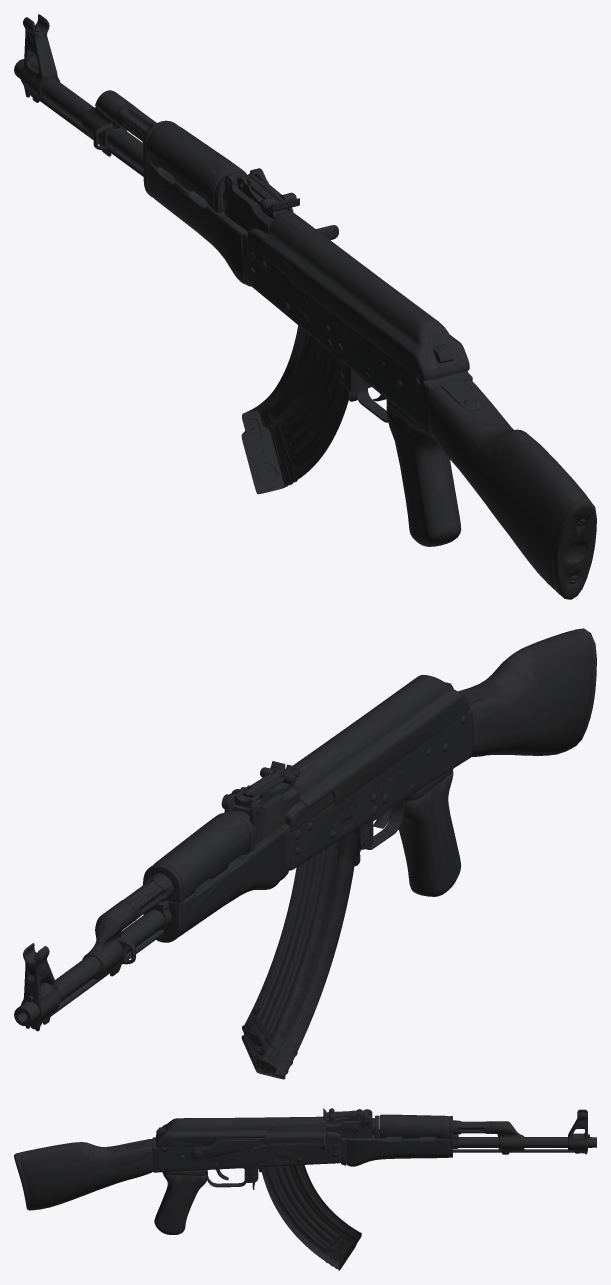
Rendered from rifle.glb.
The picture shows the model from 3 angles, top to bottom: view 1: azimuth 30°, elevation 25°; view 2: azimuth 150°, elevation 25°; view 3: azimuth 270°, elevation 25°; orthographic projection. The views are drawn at different scales.
Visible parts, largest first — view 1: body, furniture, magazine; view 2: body, furniture, magazine; view 3: body, furniture, magazine, bolt.
Boxes of the visible parts, x1,y1,x2,y2 form: body: (14,14,585,583); furniture: (146,123,596,599); magazine: (241,325,348,494); body: (14,675,482,1031); furniture: (153,628,596,937); magazine: (241,829,358,1079); body: (126,1108,596,1189); furniture: (14,1114,449,1234); magazine: (261,1165,361,1270); bolt: (266,1127,326,1149).
Size of the model in its own units: 0.0686 by 0.2527 by 0.8545.
1 material, 1 textured.
